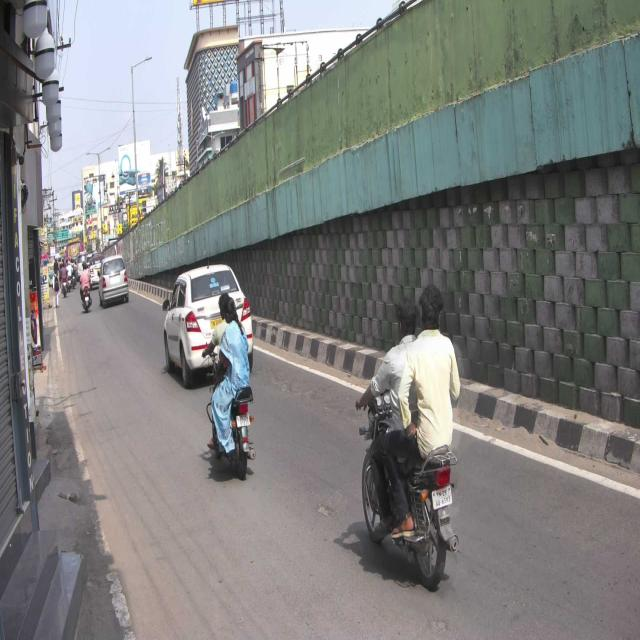double_rider: (358, 281, 459, 588), (202, 290, 258, 477)
